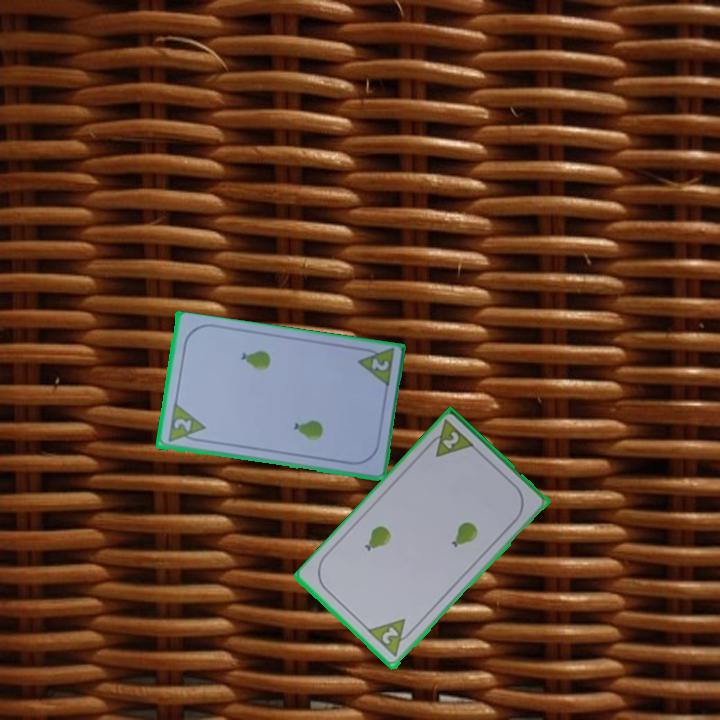2p: (364, 615, 418, 661), (422, 417, 478, 460), (170, 415, 194, 435), (367, 355, 392, 374)
